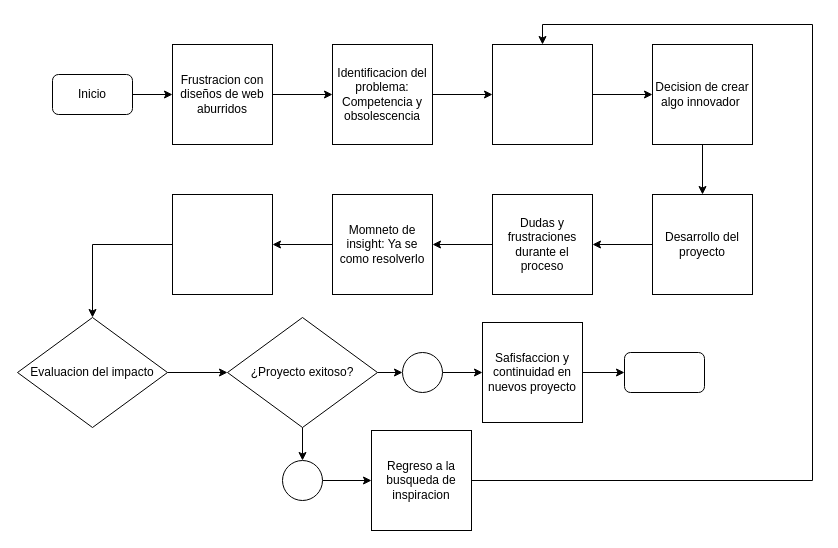
Some shapes in this 838 by 548 pixel diagram are drawn without their labels. Each missing label, with the centre of its shape:
Busqueda de inspiracion en blogs, foros y cursos: (x=542, y=94)
Fin: (x=664, y=372)
Lanzamiento del proyecto !Floripop¡: (x=222, y=244)
No: (x=302, y=480)
si: (x=422, y=372)
